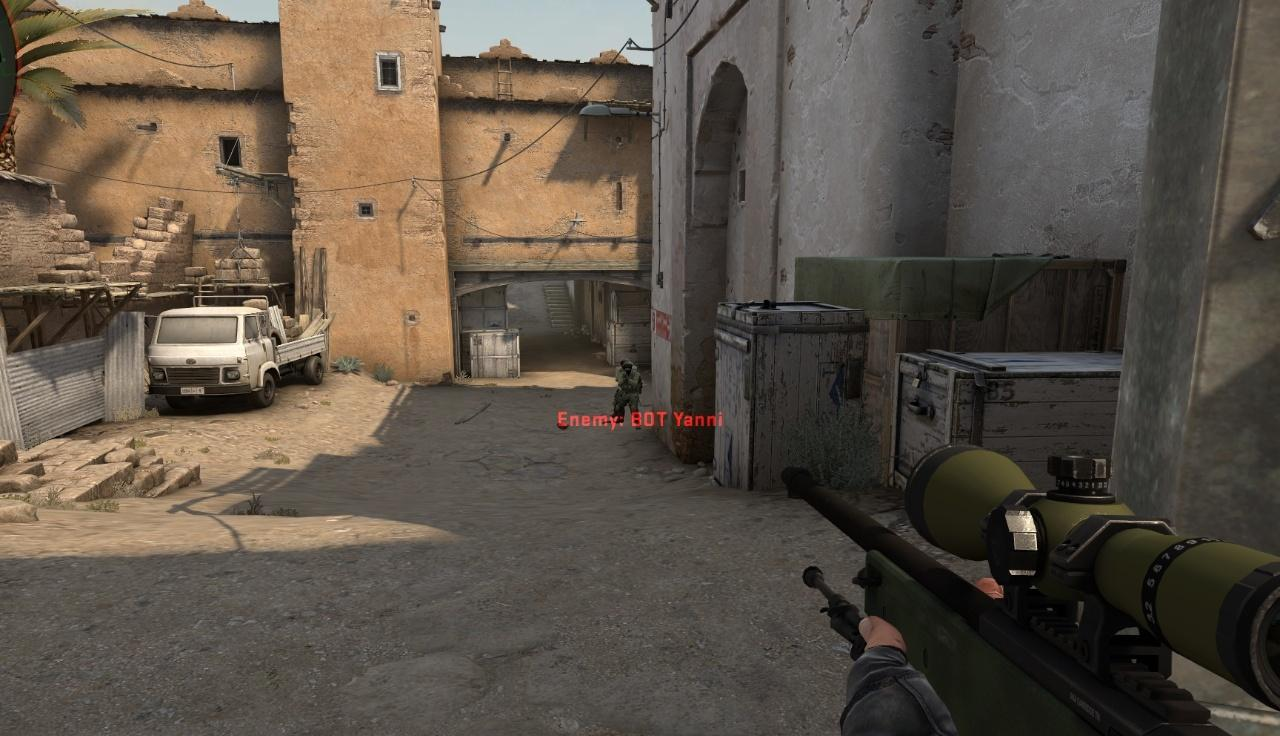ct: (616, 359, 641, 428)
cthead: (622, 361, 633, 375)
sniper: (783, 443, 1280, 736)
